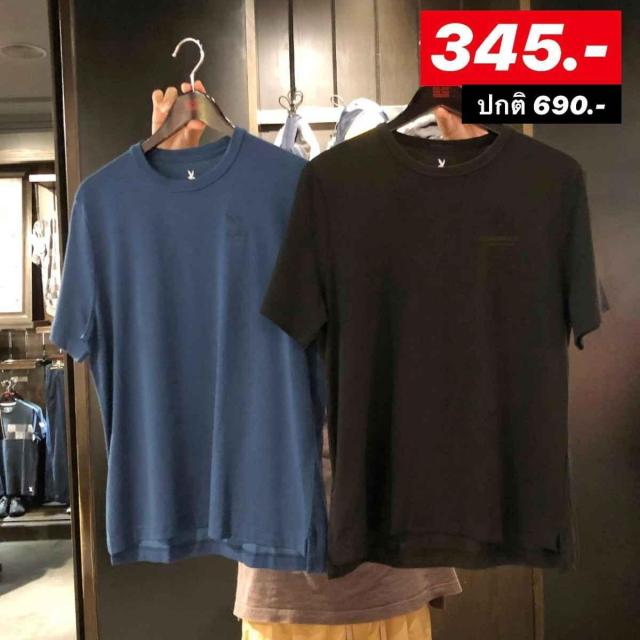Tshirt: (260, 116, 600, 579), (45, 122, 332, 575)
